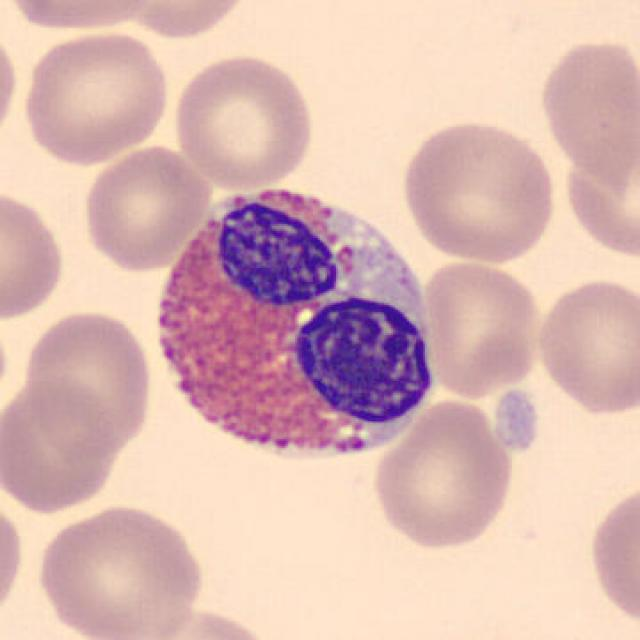Eosinophil: (140, 164, 448, 485)
Platelets: (489, 388, 542, 453)
RBC: (491, 368, 633, 603), (30, 500, 208, 640), (396, 115, 560, 266), (368, 397, 517, 552), (19, 26, 172, 168), (169, 51, 318, 192), (18, 305, 156, 457), (418, 258, 548, 400), (78, 143, 214, 273), (2, 376, 122, 516), (534, 34, 638, 185), (532, 273, 638, 418), (559, 107, 640, 262), (0, 183, 69, 324), (585, 478, 638, 629), (117, 0, 255, 42), (1, 0, 163, 35), (128, 604, 281, 640), (0, 490, 27, 628), (0, 21, 21, 149)
